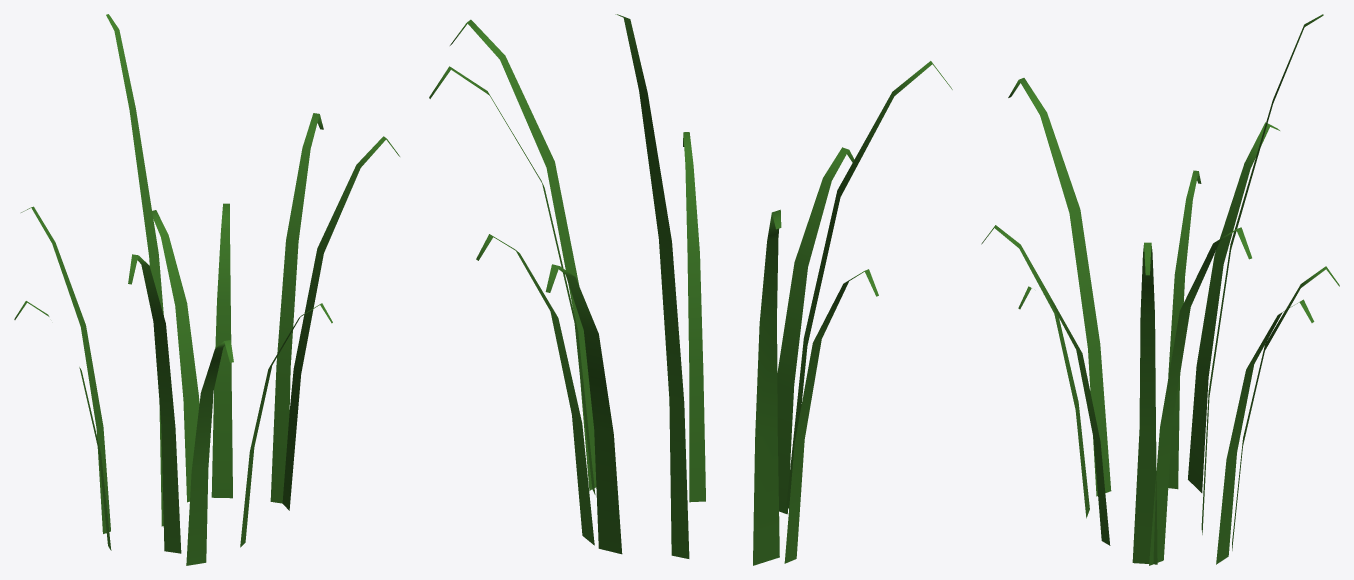
File: model_matinho1_01.fbx
The picture shows the model from 3 angles, left to right: view 1: azimuth 30°, elevation 25°; view 2: azimuth 150°, elevation 25°; view 3: azimuth 270°, elevation 25°; orthographic projection. The views are drawn at different scales.
Parts seen in each view (by area): view 1: Plane.004; view 2: Plane.004; view 3: Plane.004.
Boxes of the visible parts, box(x1,y1,x2,y2) form: Plane.004: box(14, 14, 399, 565); Plane.004: box(429, 14, 952, 565); Plane.004: box(981, 14, 1339, 565).
Size of the model in its own units: 0.5456 by 0.6792 by 0.4293.
